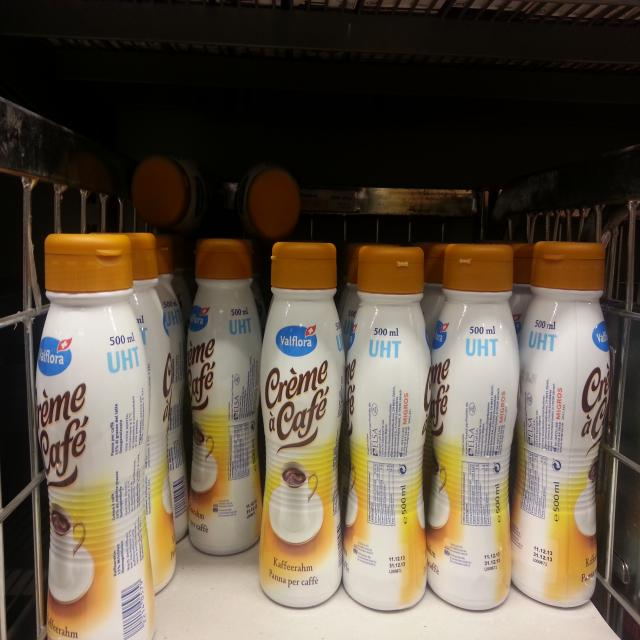Coffee: (33, 232, 156, 640), (512, 241, 610, 610), (430, 243, 520, 613), (344, 244, 429, 613), (259, 243, 342, 608), (189, 238, 263, 556)
